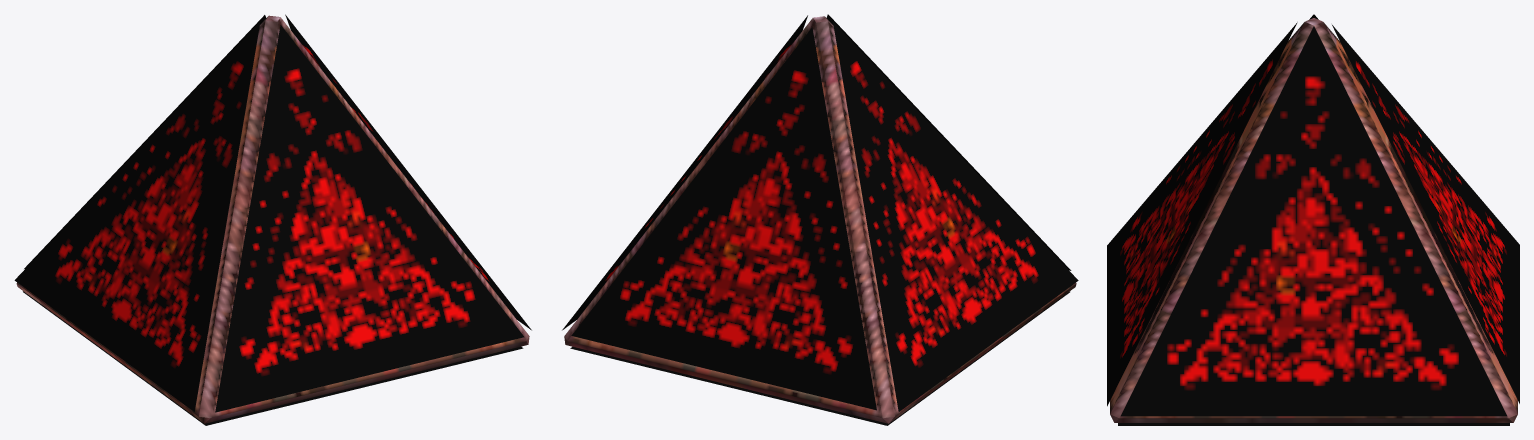
Rendered from eqp_jedi_sith_holocron_s1.fbx.
3 renders of one model, left to right at view 1: azimuth 30°, elevation 25°; view 2: azimuth 150°, elevation 25°; view 3: azimuth 270°, elevation 25°, orthographic. The views are drawn at different scales.
Visible parts, largest first — view 1: mesh_node; view 2: mesh_node; view 3: mesh_node.
Part boxes in pixels (box(x1,y1,x2,y2)): mesh_node: box(14, 14, 531, 425); mesh_node: box(562, 14, 1078, 425); mesh_node: box(1107, 14, 1519, 425).
Bounding box in the file's own units: 0.0727 × 0.0624 × 0.0721.
